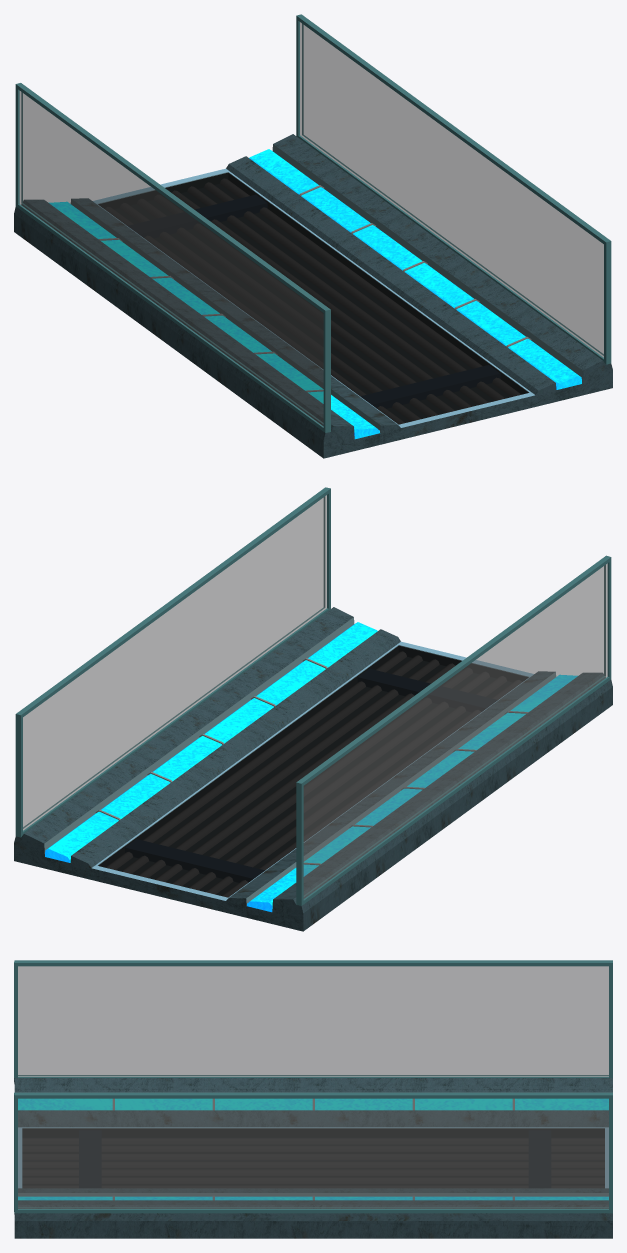
Rendered from bridge_003.gltf.
3 views of the same model, one above another, from view 1: azimuth 30°, elevation 25°; view 2: azimuth 150°, elevation 25°; view 3: azimuth 270°, elevation 25° (orthographic). The views are drawn at different scales.
Parts seen in each view (by area): view 1: bridge_003(Clone); view 2: bridge_003(Clone); view 3: bridge_003(Clone).
Part boxes in pixels (x1=…): bridge_003(Clone): x1=14, y1=14, x2=612, y2=458; bridge_003(Clone): x1=14, y1=487, x2=612, y2=931; bridge_003(Clone): x1=14, y1=960, x2=612, y2=1238.
Size of the model in its own units: 6.45 by 3.14 by 11.98.
Materials: 10 (2 with a texture image).
